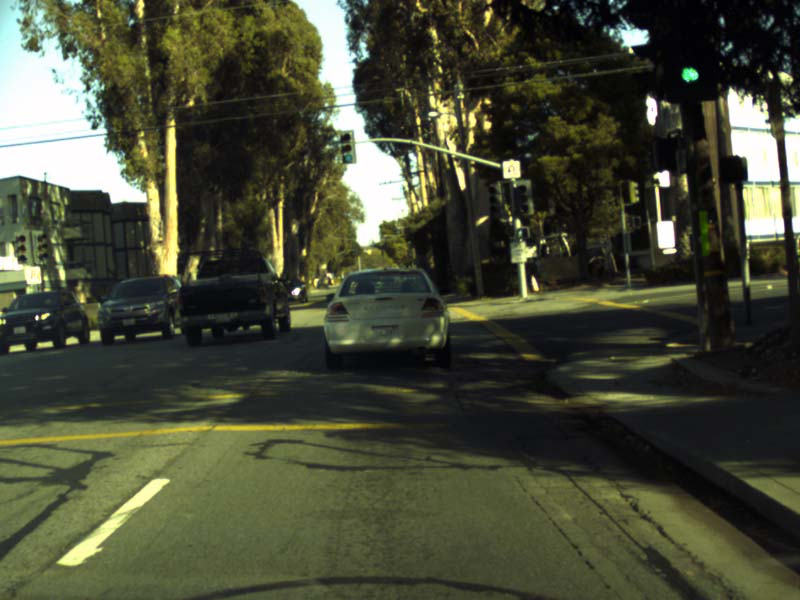Green: (679, 29, 700, 86), (342, 132, 352, 162)
